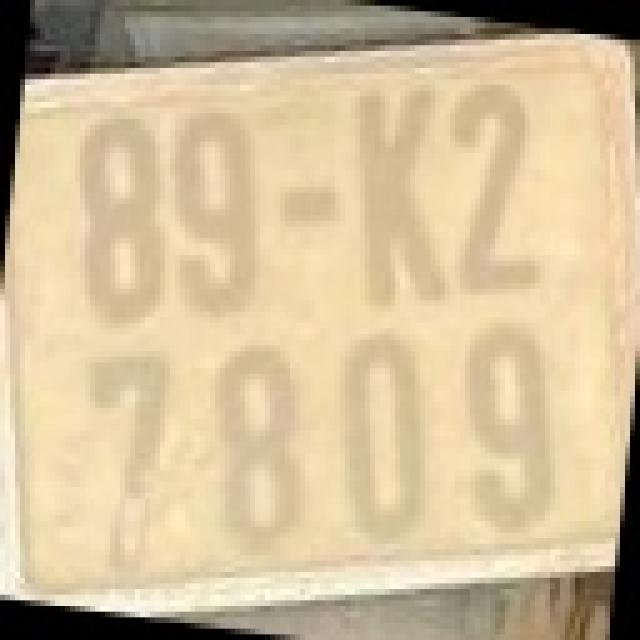0: (335, 329, 430, 538)
2: (445, 74, 550, 300)
7: (80, 346, 185, 566)
8: (75, 113, 170, 323), (215, 340, 305, 544)
9: (460, 323, 555, 527), (170, 108, 260, 317)
K: (358, 62, 458, 317)
